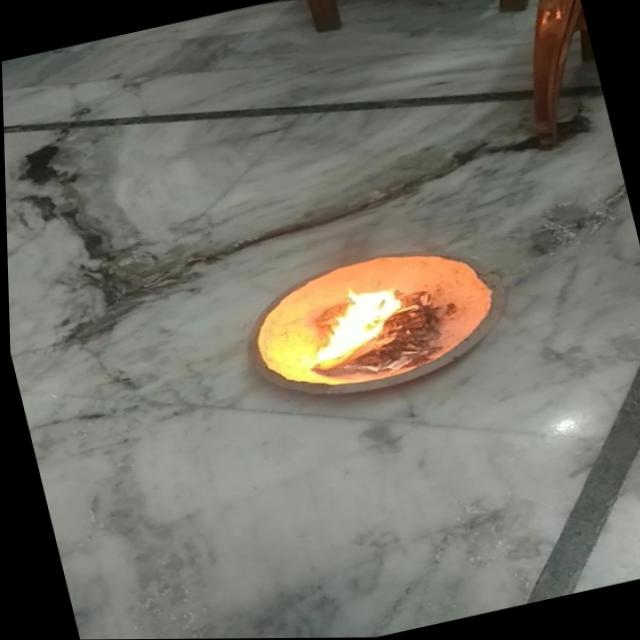fire: (298, 273, 418, 372)
